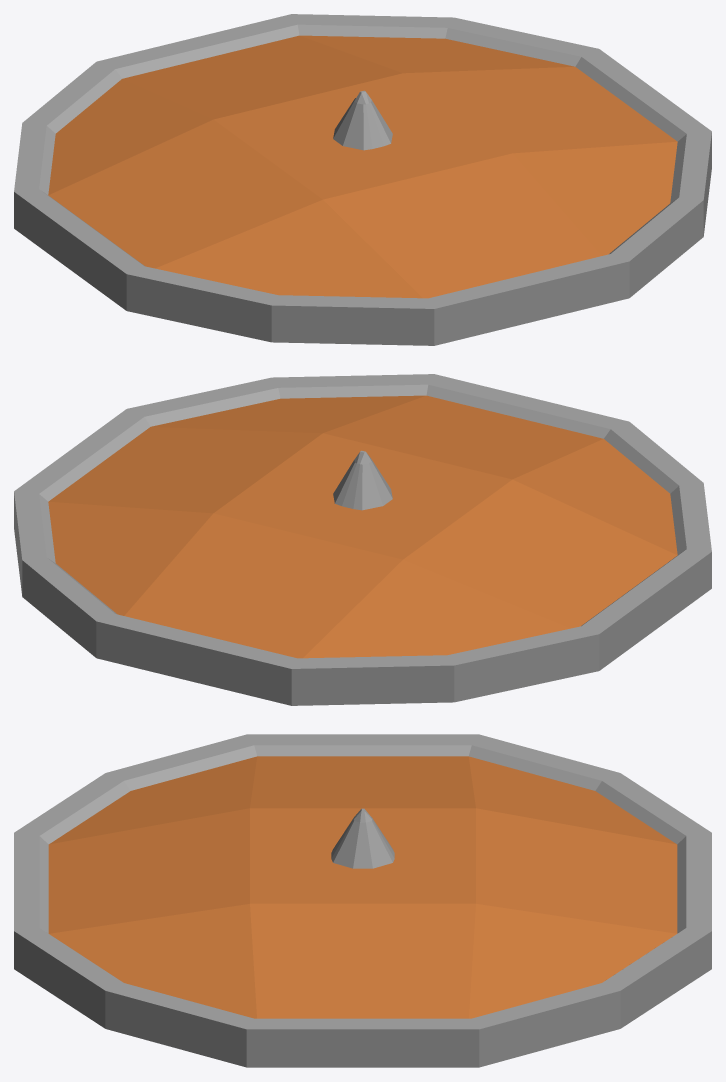
File: bucklerShield.fbx
The picture shows the model from 3 angles, top to bottom: view 1: azimuth 30°, elevation 25°; view 2: azimuth 150°, elevation 25°; view 3: azimuth 270°, elevation 25°; orthographic projection. The views are drawn at different scales.
Visible parts, largest first — view 1: Cube; view 2: Cube; view 3: Cube.
Boxes of the visible parts, x1=… form: Cube: x1=14, y1=14, x2=711, y2=345; Cube: x1=14, y1=374, x2=711, y2=705; Cube: x1=14, y1=734, x2=711, y2=1067.
Bounding box in the file's own units: 271 × 57.58 × 271.
